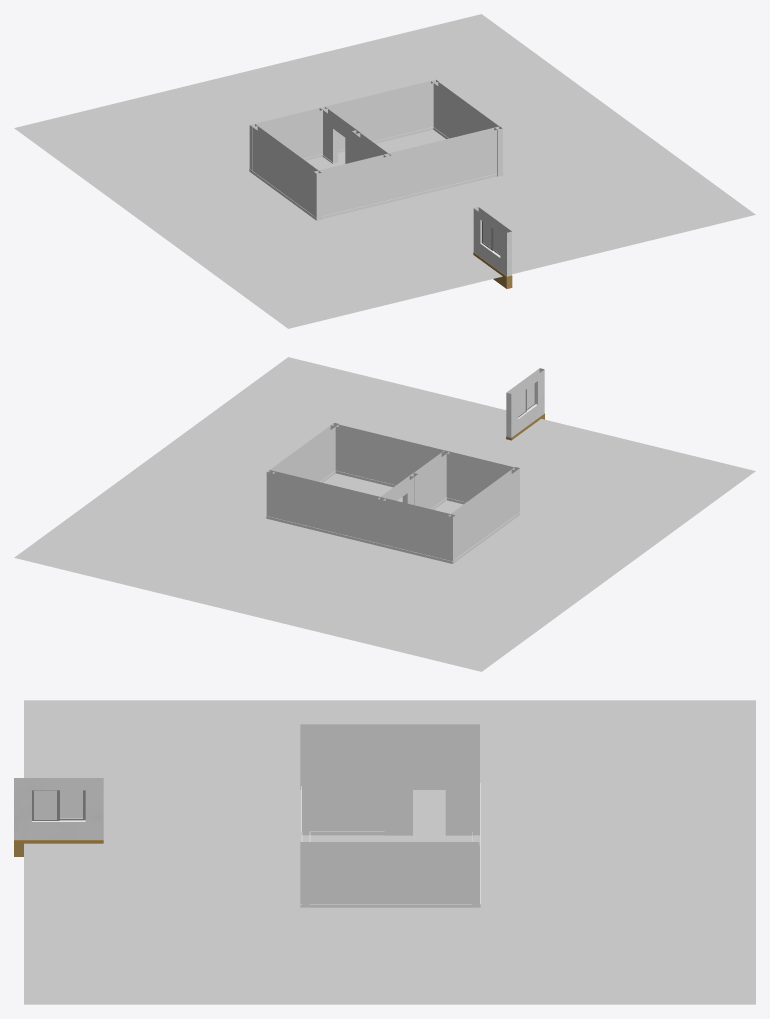
File: madori.fbx
3 views of the same model, one above another, from view 1: azimuth 30°, elevation 25°; view 2: azimuth 150°, elevation 25°; view 3: azimuth 270°, elevation 25° (orthographic). The views are drawn at different scales.
Parts seen in each view (by area): view 1: polySurface3, pCube2, pCube2.001, pCube2.006, pCube2.005, pCube2.003, pCube2.004, pCube76, pCube50, pCube2.002; view 2: polySurface3, pCube2.001, pCube2, pCube2.004, pCube2.005, pCube2.006, pCube2.003, pCube76, pCube2.002, pCube50; view 3: polySurface3, pCube2.003, pCube2.005, pCube76, pCube2.002, pCube50, pCube2.001, pCube2, pCube2.006.
Boxes of the visible parts, box(x1,y1,x2,y2) form: polySurface3: box(14, 14, 755, 328); pCube2: box(384, 126, 502, 201); pCube2.001: box(319, 79, 438, 152); pCube2.006: box(313, 153, 391, 218); pCube2.005: box(249, 124, 322, 220); pCube2.003: box(431, 80, 503, 176); pCube2.004: box(249, 106, 327, 171); pCube76: box(473, 207, 512, 288); pCube50: box(322, 108, 360, 163); pCube2.002: box(351, 130, 389, 162); polySurface3: box(14, 357, 755, 671); pCube2.001: box(266, 470, 385, 546); pCube2: box(330, 423, 449, 487); pCube2.004: box(377, 497, 455, 563); pCube2.005: box(448, 467, 520, 563); pCube2.006: box(442, 450, 519, 514); pCube2.003: box(267, 423, 339, 482); pCube76: box(506, 368, 544, 440); pCube2.002: box(409, 451, 447, 509); pCube50: box(380, 473, 418, 504); polySurface3: box(24, 700, 755, 1004); pCube2.003: box(300, 842, 479, 907); pCube2.005: box(300, 724, 479, 789); pCube76: box(14, 778, 103, 856); pCube2.002: box(307, 769, 394, 835); pCube50: box(384, 770, 473, 835); pCube2.001: box(472, 770, 480, 907); pCube2: box(301, 770, 310, 907); pCube2.006: box(301, 773, 309, 835).
Bounding box in the file's own units: 143 × 16.44 × 147.
